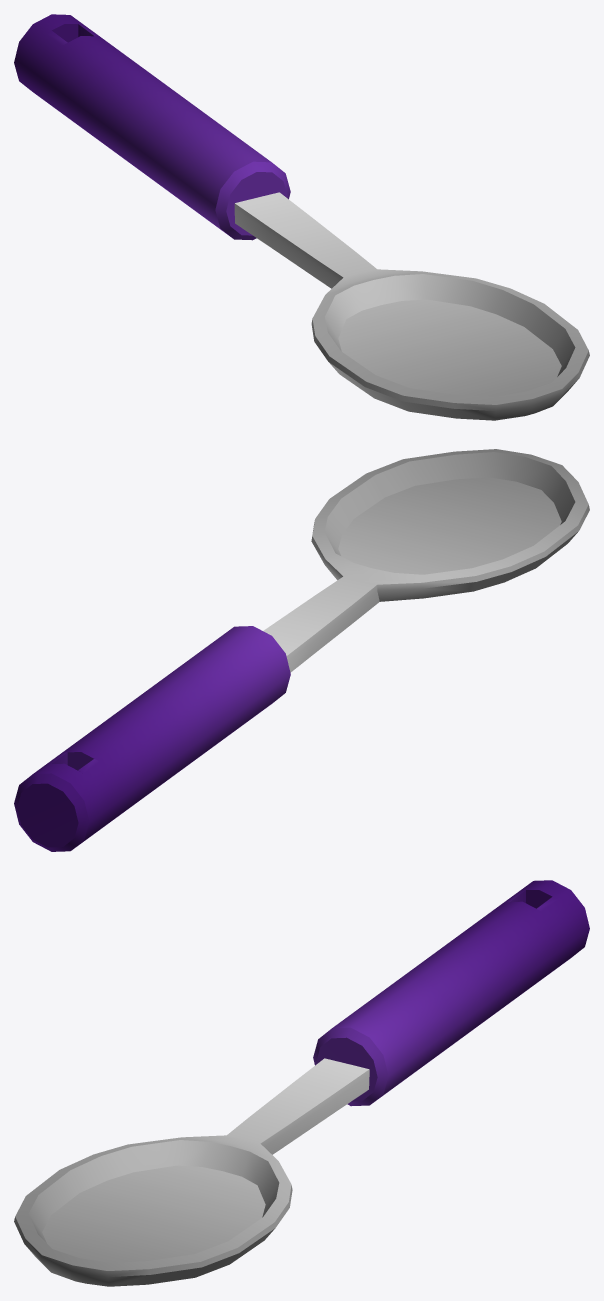
The model's file is Kitchen Tools_2.glb.
3 renders of one model, top to bottom at view 1: azimuth 30°, elevation 25°; view 2: azimuth 150°, elevation 25°; view 3: azimuth 330°, elevation 25°, orthographic.
Visible parts, largest first — view 1: Kitchen Tools_2; view 2: Kitchen Tools_2; view 3: Kitchen Tools_2.
Boxes of the visible parts, box(x1,y1,x2,y2) form: Kitchen Tools_2: box(14, 14, 589, 420); Kitchen Tools_2: box(14, 449, 589, 851); Kitchen Tools_2: box(14, 880, 589, 1286).
Bounding box in the file's own units: 0.0936 × 0.0323 × 0.3609.
Materials: 1 (1 with a texture image).
